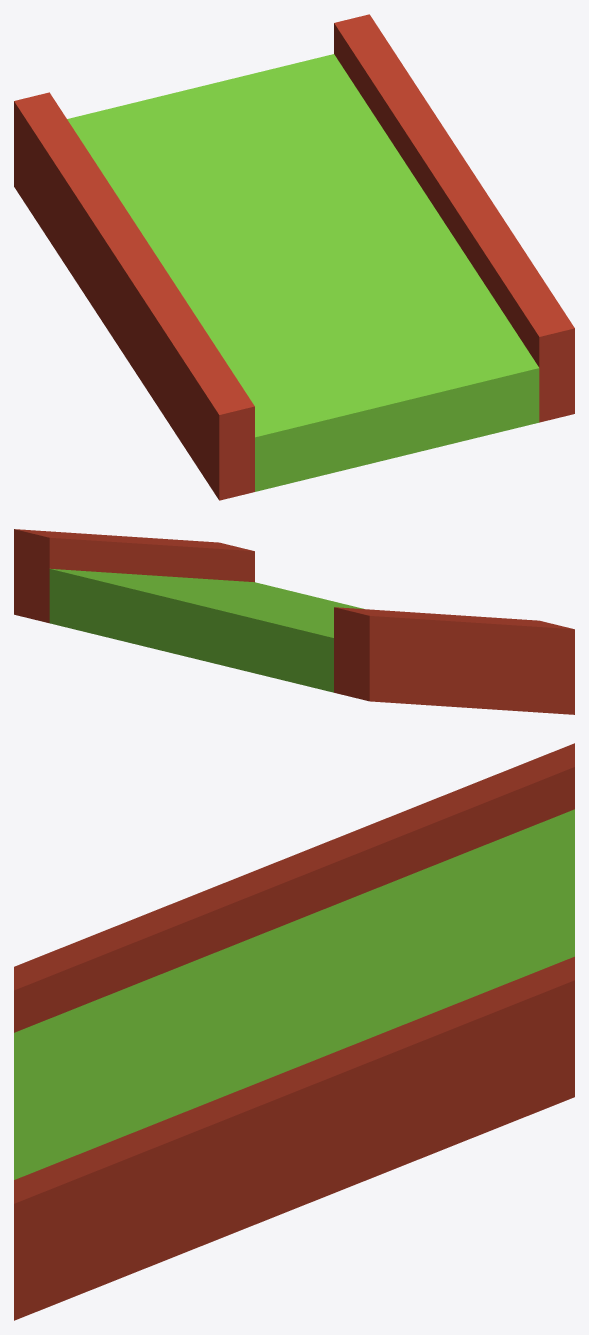
The model's file is Ramp_05866M.FBX.
3 views of the same model, one above another, from view 1: azimuth 30°, elevation 25°; view 2: azimuth 150°, elevation 25°; view 3: azimuth 270°, elevation 25° (orthographic). The views are drawn at different scales.
Parts seen in each view (by area): view 1: Ramp_3_01, Walls; view 2: Walls, Ramp_3_01; view 3: Walls, Ramp_3_01.
Boxes of the visible parts, x1=… form: Ramp_3_01: x1=67, y1=54, x2=539, y2=491; Walls: x1=14, y1=14, x2=574, y2=500; Walls: x1=14, y1=529, x2=574, y2=714; Ramp_3_01: x1=49, y1=568, x2=364, y2=692; Walls: x1=14, y1=743, x2=574, y2=1320; Ramp_3_01: x1=14, y1=809, x2=574, y2=1179.
Bounding box in the file's own units: 0.9999 × 0.9999 × 0.6699.
